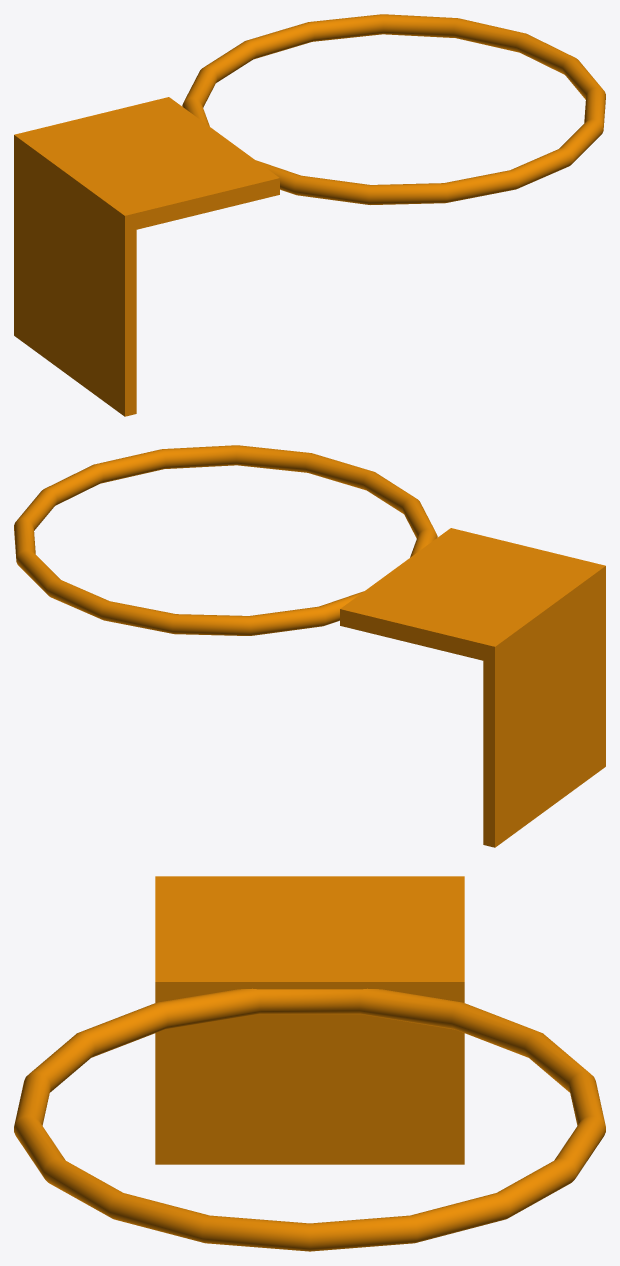
File: wall mount 1.fbx
The picture shows the model from 3 angles, top to bottom: view 1: azimuth 30°, elevation 25°; view 2: azimuth 150°, elevation 25°; view 3: azimuth 270°, elevation 25°; orthographic projection. The views are drawn at different scales.
Parts seen in each view (by area): view 1: polySurface19, polySurface20; view 2: polySurface19, polySurface20; view 3: polySurface19, polySurface20.
Boxes of the visible parts, x1=… form: polySurface19: x1=14, y1=97, x2=279, y2=416; polySurface20: x1=182, y1=14, x2=605, y2=204; polySurface19: x1=340, y1=528, x2=605, y2=847; polySurface20: x1=14, y1=445, x2=437, y2=635; polySurface19: x1=155, y1=876, x2=464, y2=1164; polySurface20: x1=14, y1=988, x2=605, y2=1251.
Bounding box in the file's own units: 5.74 × 2.16 × 4.13.
